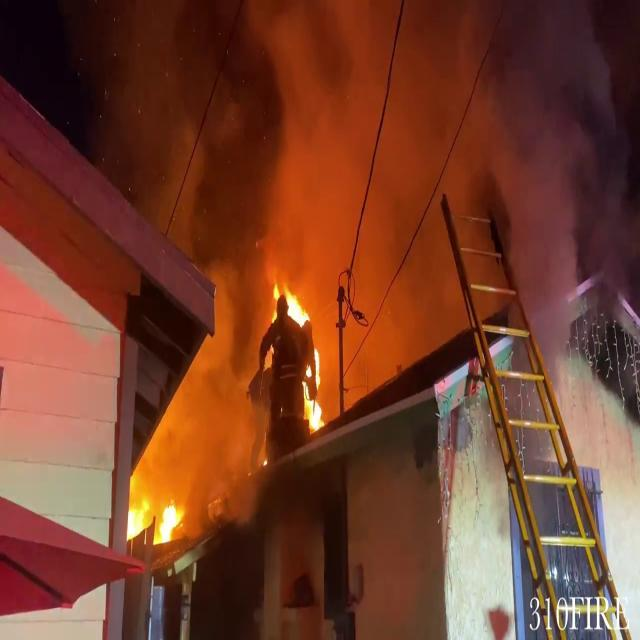Fire: (276, 269, 330, 437), (124, 472, 186, 550)
Smoke: (112, 1, 629, 364)
